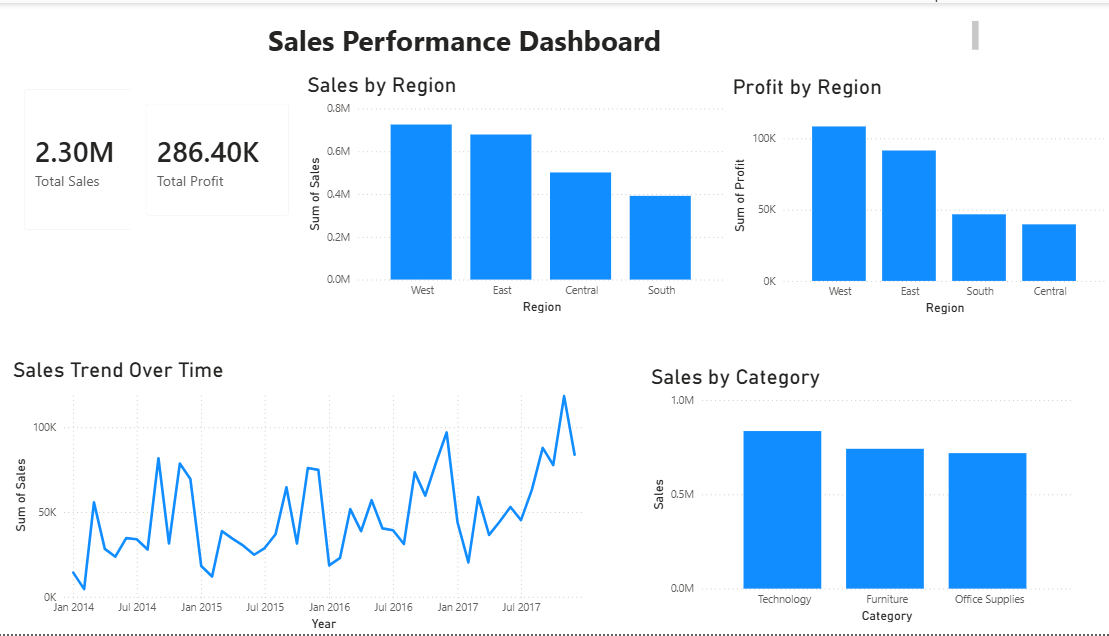

What the dashboard file says about the page in this screenshot:
{"tool":"powerbi","page":{"name":"Page 1","canvas":[1280,720],"ordinal":0},"visuals":[{"type":"columnChart","title":" Sales by Region","fields":{"Category":["Orders.Region"],"Y":["Sum(Orders.Sales)"]},"box":[357.9,79.9,487,279.6],"z":0},{"type":"columnChart","title":"Profit by Region","fields":{"Category":["Orders.Region"],"Y":["Sum(Orders.Profit)"]},"box":[843.3,81.4,436.3,279.6],"z":1000},{"type":"lineChart","title":"Sales Trend Over Time","fields":{"Category":["Orders.Order Date.Variation.Date Hierarchy.Year","Orders.Order Date.Variation.Date Hierarchy.Month"],"Y":["Sum(Orders.Sales)"]},"box":[21.5,404,672.8,316.4],"z":2000},{"type":"textbox","box":[21.5,15.4,1112.2,47.6],"z":3000},{"type":"cardVisual","fields":{"Data":["Sum(Orders.Sales)"]},"box":[21.5,81.4,181.3,195.1],"z":4000},{"type":"cardVisual","fields":{"Data":["Sum(Orders.Profit)"]},"box":[159.8,98.3,198.2,162.8],"z":5000},{"type":"clusteredColumnChart","fields":{"Category":["Orders.Category"],"Y":["Sum(Orders.Sales)"]},"box":[749.6,411.7,490,299.5],"z":6000}]}

Visuals, with their boxes in screenshot pixels (x1, y1, x2, y2), scaled from the page's 1280x720 canvas onto the 1109x636 screenshot:
" Sales by Region" columnChart: bbox=[310, 71, 732, 318]
"Profit by Region" columnChart: bbox=[731, 72, 1108, 319]
"Sales Trend Over Time" lineChart: bbox=[19, 357, 602, 635]
textbox: bbox=[19, 14, 982, 56]
cardVisual - Sum(Orders.Sales): bbox=[19, 72, 176, 244]
cardVisual - Sum(Orders.Profit): bbox=[138, 87, 310, 231]
clusteredColumnChart - Orders.Category x Sum(Orders.Sales): bbox=[649, 364, 1074, 628]
